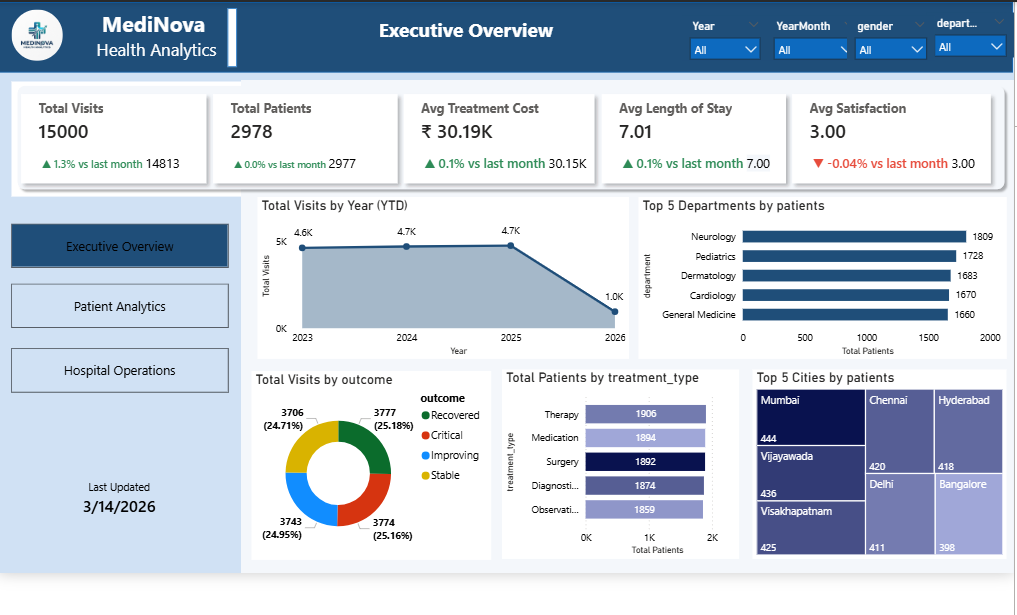

This screenshot's page, from the dashboard's own definition file:
{"tool":"powerbi","page":{"name":"Executive Overview","canvas":[1280,720],"ordinal":0},"visuals":[{"type":"shape","box":[16.7,100,1260,145],"z":0},{"type":"shape","box":[0,0,1278.9,88.9],"z":1000},{"type":"image","box":[16.7,10,64.4,64.4],"z":2000},{"type":"textbox","box":[0,191.7,303.3,38.3],"z":3000},{"type":"textbox","box":[95.6,4.4,206.7,78.9],"z":4000},{"type":"shape","box":[290,6.7,12,74.4],"z":5000},{"type":"textbox","box":[302,14,574,44],"z":6000},{"type":"shape","box":[306.2,97.5,973.8,622.5],"z":7000},{"type":"shape","title":"Exceutive Overview","box":[16.2,280,273.3,55],"z":8000},{"type":"shape","title":"Exceutive Overview","box":[16.2,356.1,273.3,55],"z":9000},{"type":"shape","title":"Exceutive Overview","box":[16.3,435.9,273.3,55.3],"z":10000},{"type":"shape","box":[16.7,98.3,1258.3,145],"z":11000},{"type":"cardVisual","fields":{"Data":["All Measures.Total Visits"]},"box":[0,87,291.7,170],"z":12000},{"type":"cardVisual","fields":{"Data":["All Measures.Total Patients"]},"box":[242.1,87,290,170],"z":13000},{"type":"cardVisual","fields":{"Data":["All Measures.Avg Treatment Cost"]},"box":[482.5,87,298.3,170],"z":14000},{"type":"cardVisual","fields":{"Data":["All Measures.Avg Satisfaction"]},"box":[971.7,86.7,308.3,170],"z":15000},{"type":"lineChart","title":"Total Visits by Year (YTD)","fields":{"Y":["All Measures.Total Visits"],"Category":["DateTable.Year"]},"box":[326,246,468,204],"z":16000},{"type":"donutChart","fields":{"Category":["healthcare_visits_clean.outcome"],"Y":["All Measures.Total Visits"]},"box":[320,464,302,238],"z":17000},{"type":"clusteredBarChart","title":"Top 5 Departments by patients","fields":{"Category":["healthcare_doctors_clean.department"],"Y":["All Measures.Total Patients"]},"box":[806,246,464,204],"z":18000},{"type":"treemap","title":"Top 5 Cities by patients","fields":{"Group":["healthcare_patients_clean.city"],"Values":["All Measures.Total Patients"]},"box":[950,463.3,320,238.3],"z":19000},{"type":"clusteredBarChart","fields":{"Category":["healthcare_visits_clean.treatment_type"],"Y":["All Measures.Total Patients"]},"box":[635,463.3,298.3,238.3],"z":20000},{"type":"cardVisual","fields":{"Data":["All Measures.Last Updated"]},"box":[73.3,583.3,158.3,81.7],"z":21000},{"type":"slicer","fields":{"Values":["DateTable.Year"]},"box":[862.1,16.3,109,56.9],"z":22000},{"type":"slicer","fields":{"Values":["healthcare_doctors_clean.department"]},"box":[1169.5,13,110.6,56.9],"z":23000},{"type":"slicer","fields":{"Values":["DateTable.YearMonth"]},"box":[967.8,16.3,123.6,56.9],"z":24000},{"type":"cardVisual","fields":{"Data":["All Measures.Avg Length of Stay"]},"box":[731.2,87,290,170],"z":25000},{"type":"slicer","fields":{"Values":["healthcare_patients_clean.gender"]},"box":[1070.3,16.3,110.6,56.9],"z":26000}]}

Visuals, with their boxes on the page's 1280x720 design canvas (x1, y1, x2, y2). These are canvas units, not pixel positions in the 1017x615 screenshot, which may show the page scaled, cropped or inside an application window:
shape: bbox(17, 100, 1277, 245)
shape: bbox(0, 0, 1279, 89)
image: bbox(17, 10, 81, 74)
textbox: bbox(0, 192, 303, 230)
textbox: bbox(96, 4, 302, 83)
shape: bbox(290, 7, 302, 81)
textbox: bbox(302, 14, 876, 58)
shape: bbox(306, 98, 1280, 720)
"Exceutive Overview" shape: bbox(16, 280, 290, 335)
"Exceutive Overview" shape: bbox(16, 356, 290, 411)
"Exceutive Overview" shape: bbox(16, 436, 290, 491)
shape: bbox(17, 98, 1275, 243)
cardVisual - All Measures.Total Visits: bbox(0, 87, 292, 257)
cardVisual - All Measures.Total Patients: bbox(242, 87, 532, 257)
cardVisual - All Measures.Avg Treatment Cost: bbox(482, 87, 781, 257)
cardVisual - All Measures.Avg Satisfaction: bbox(972, 87, 1280, 257)
"Total Visits by Year (YTD)" lineChart: bbox(326, 246, 794, 450)
donutChart - healthcare_visits_clean.outcome x All Measures.Total Visits: bbox(320, 464, 622, 702)
"Top 5 Departments by patients" clusteredBarChart: bbox(806, 246, 1270, 450)
"Top 5 Cities by patients" treemap: bbox(950, 463, 1270, 702)
clusteredBarChart - healthcare_visits_clean.treatment_type x All Measures.Total Patients: bbox(635, 463, 933, 702)
cardVisual - All Measures.Last Updated: bbox(73, 583, 232, 665)
slicer - DateTable.Year: bbox(862, 16, 971, 73)
slicer - healthcare_doctors_clean.department: bbox(1170, 13, 1280, 70)
slicer - DateTable.YearMonth: bbox(968, 16, 1091, 73)
cardVisual - All Measures.Avg Length of Stay: bbox(731, 87, 1021, 257)
slicer - healthcare_patients_clean.gender: bbox(1070, 16, 1181, 73)
